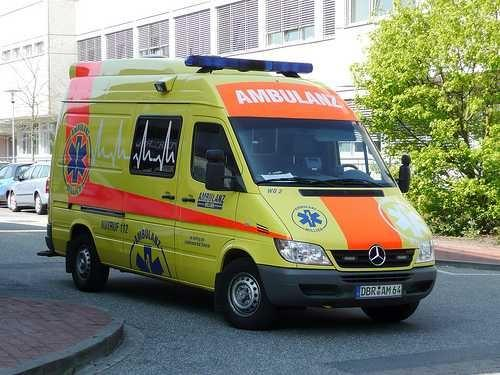car: (43, 53, 437, 330)
